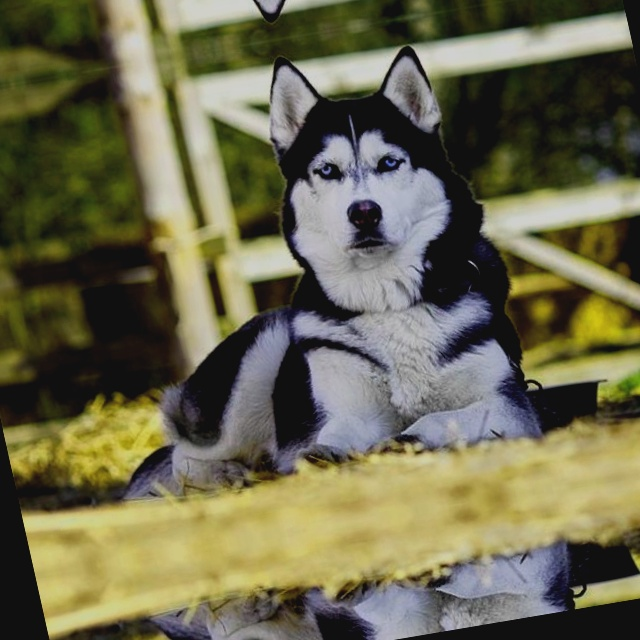dog: (128, 47, 599, 515), (230, 508, 632, 640)
